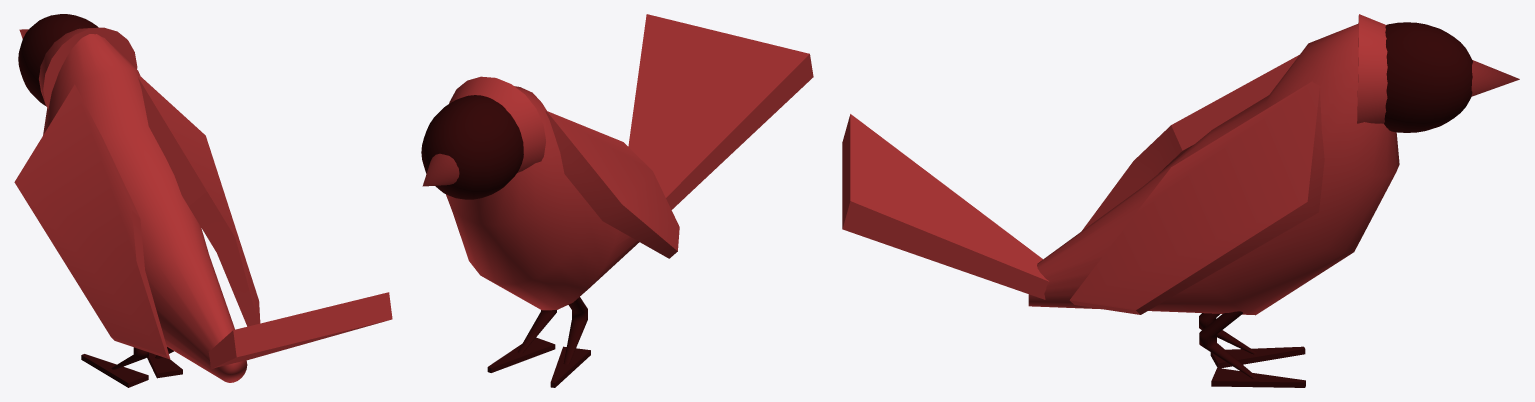
The model's file is bird_perch_1.fbx.
3 views of the same model, side by side, from view 1: azimuth 30°, elevation 25°; view 2: azimuth 150°, elevation 25°; view 3: azimuth 270°, elevation 25° (orthographic). The views are drawn at different scales.
Visible parts, largest first — view 1: pCylinder2, pCube8, pCube7, pCube6, pSphere2, pCone2, pCylinder5, pCylinder4; view 2: pCube6, pCylinder2, pCube8, pSphere2, pCone2, pCylinder5, pCylinder4; view 3: pCube7, pCylinder2, pCube6, pSphere2, pCube8, pCone2, pCylinder4, pCylinder5.
Part boxes in pixels (<box>): pCylinder2: <box>43,34,247,382</box>; pCube8: <box>14,84,170,359</box>; pCube7: <box>138,75,260,326</box>; pCube6: <box>208,292,392,369</box>; pSphere2: <box>18,14,98,106</box>; pCone2: <box>19,27,137,109</box>; pCylinder5: <box>81,347,148,387</box>; pCylinder4: <box>147,347,182,378</box>; pCube6: <box>628,14,813,209</box>; pCylinder2: <box>446,86,639,310</box>; pCube8: <box>545,111,679,258</box>; pSphere2: <box>421,95,523,199</box>; pCone2: <box>422,76,545,186</box>; pCylinder5: <box>550,297,590,387</box>; pCylinder4: <box>487,310,556,372</box>; pCube7: <box>1069,81,1324,314</box>; pCylinder2: <box>1028,23,1399,315</box>; pCube6: <box>842,114,1049,299</box>; pSphere2: <box>1384,22,1472,132</box>; pCube8: <box>1082,55,1299,230</box>; pCone2: <box>1357,14,1519,123</box>; pCylinder4: <box>1199,311,1305,387</box>; pCylinder5: <box>1199,313,1305,368</box>.
Bounding box in the file's own units: 3.58 × 5.46 × 9.56.
